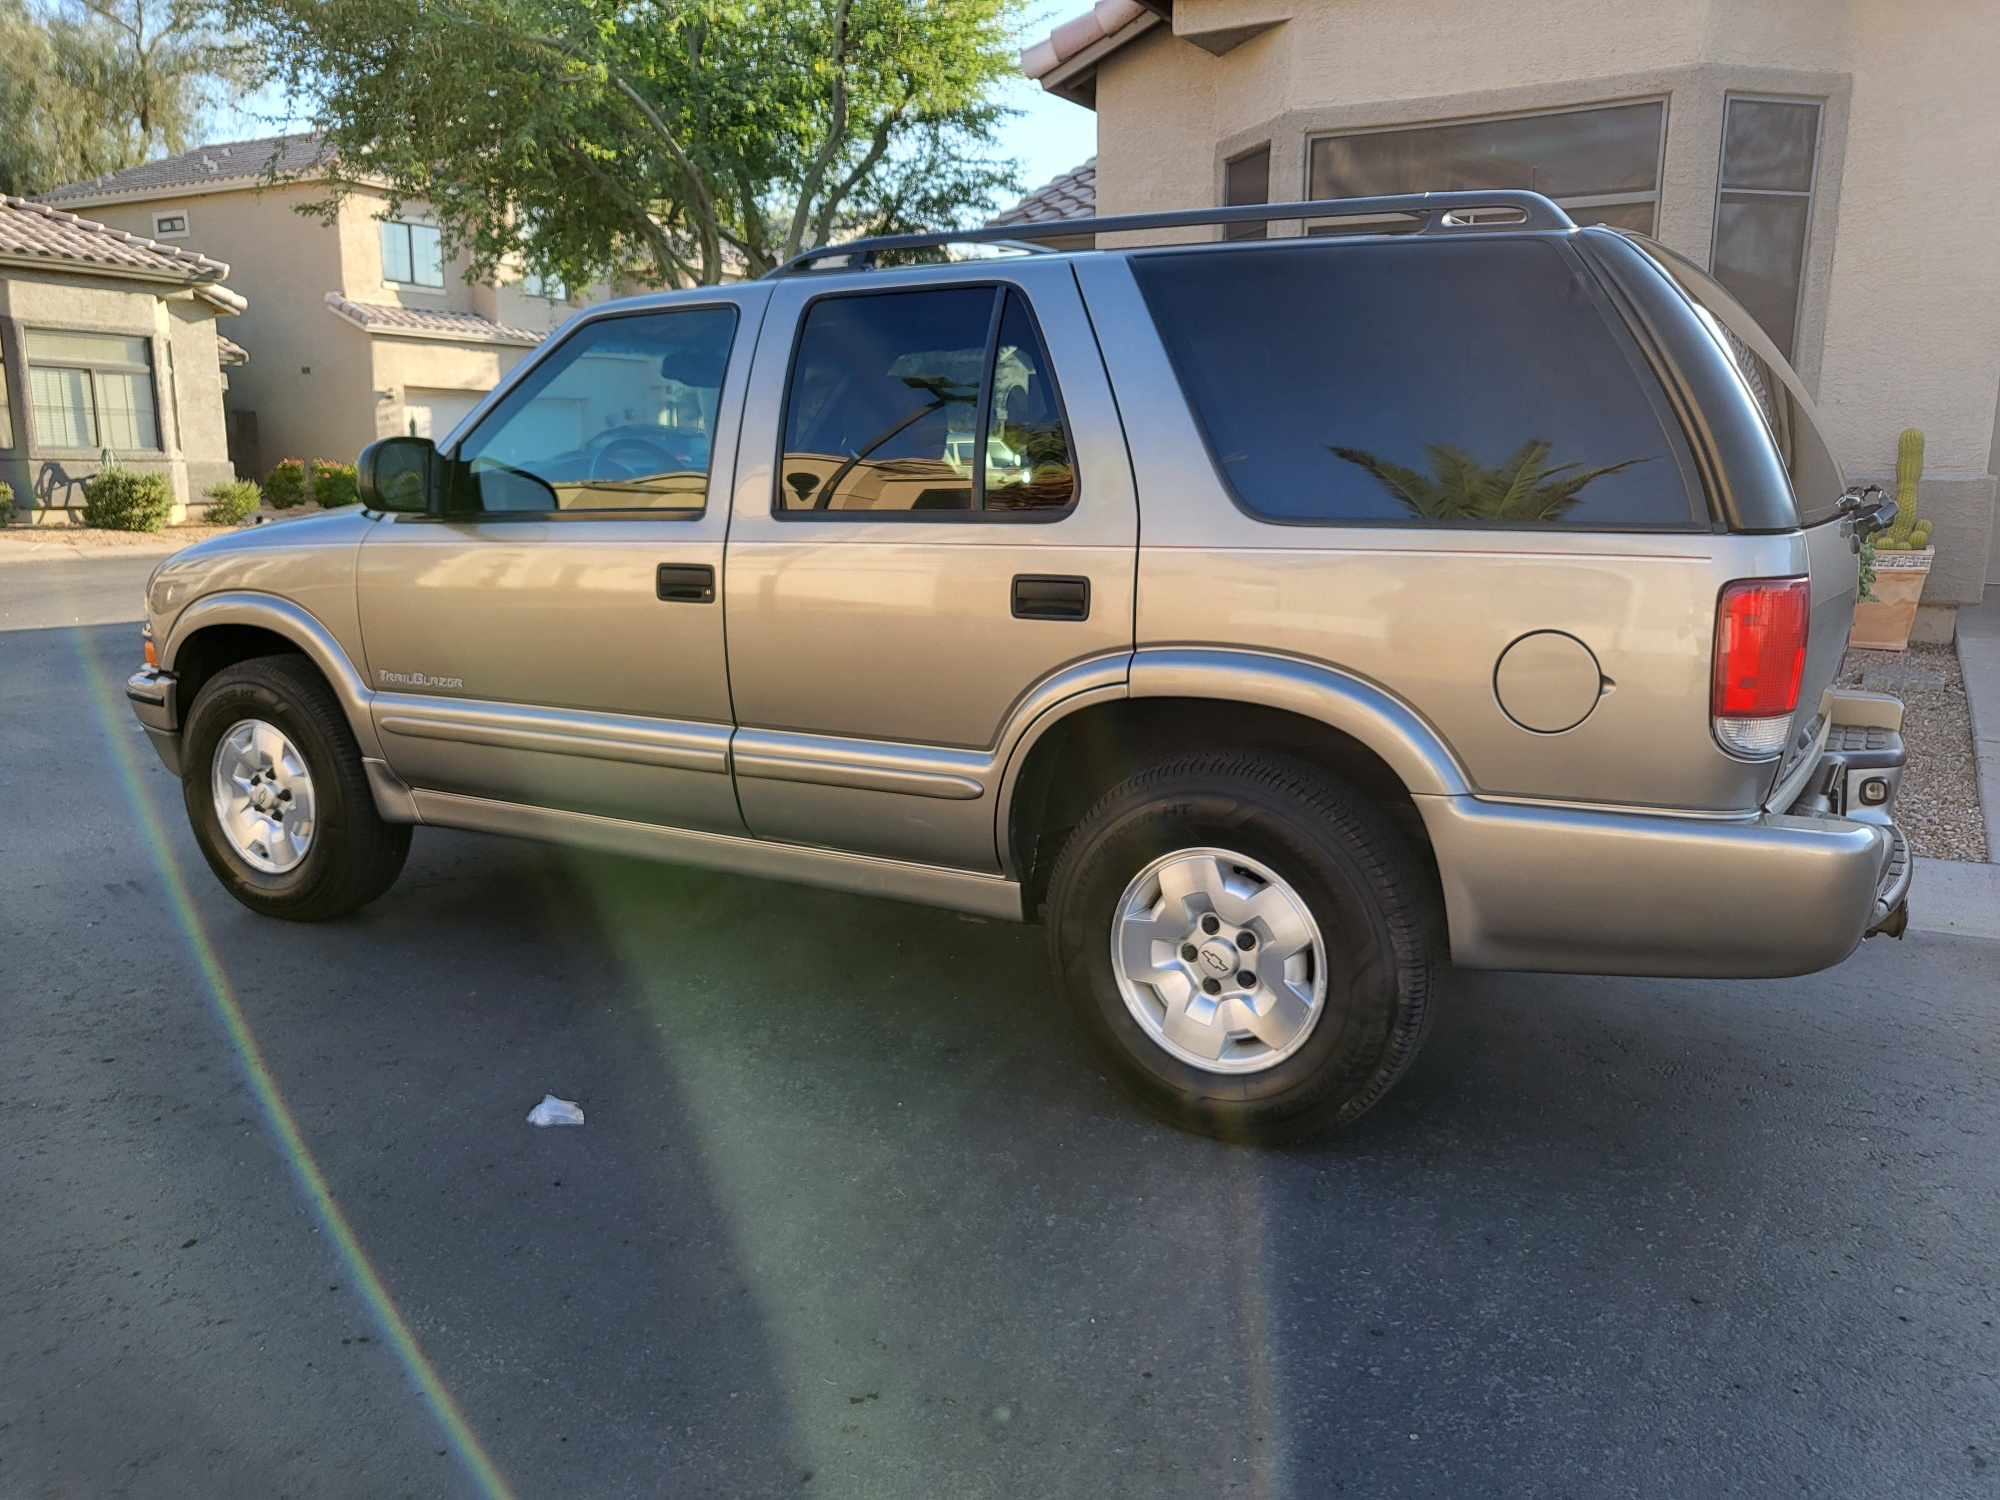car: (90, 178, 1924, 1153)
